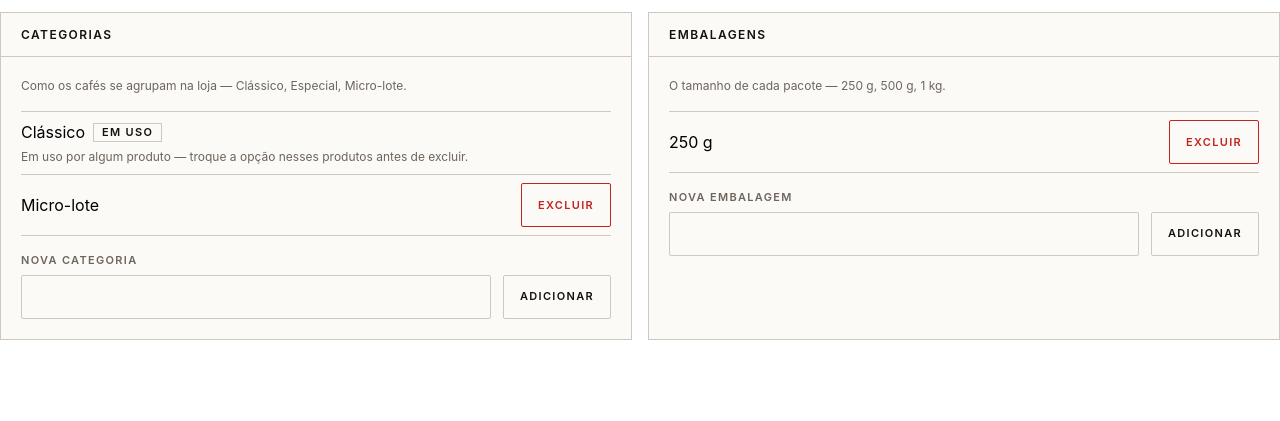
Test: acrescentar › campo em branco não vira ida à rede
This screenshot has width=1280, height=421.
Click the 2nd button "Adicionar": (557, 296) [503,274,611,318]
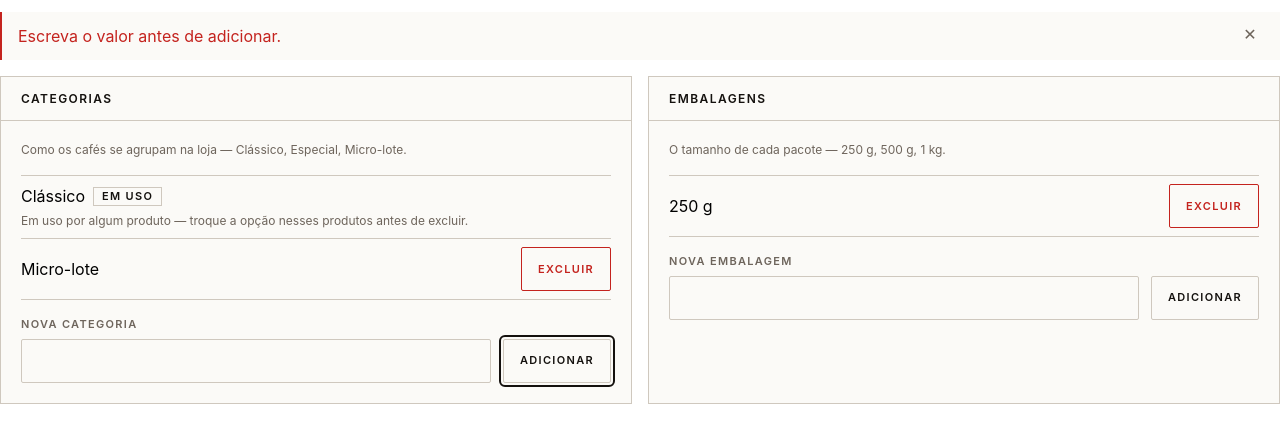
Now the text "Escreva o valor antes de adicionar." is shown, box [18,26,281,46]
